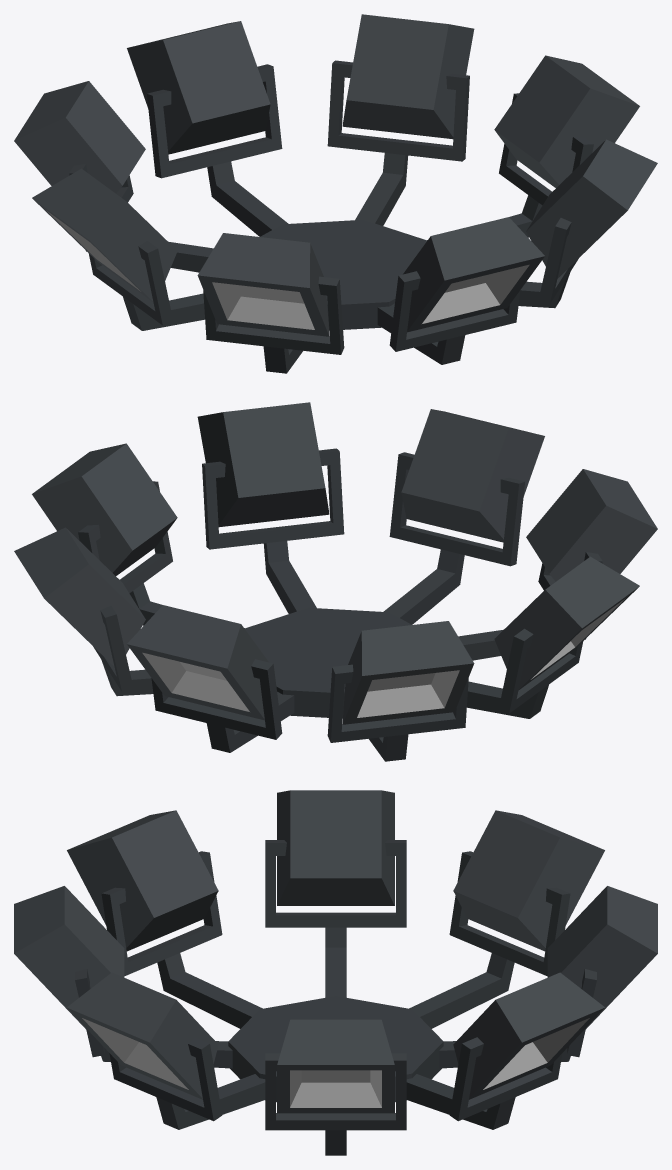
File: SM_Prop_Pole_Large_Lights_01.fbx
The picture shows the model from 3 angles, top to bottom: view 1: azimuth 30°, elevation 25°; view 2: azimuth 150°, elevation 25°; view 3: azimuth 270°, elevation 25°; orthographic projection.
Parts seen in each view (by area): view 1: SM_Prop_Pole_Large_Lights_01; view 2: SM_Prop_Pole_Large_Lights_01; view 3: SM_Prop_Pole_Large_Lights_01.
Boxes of the visible parts, x1=… form: SM_Prop_Pole_Large_Lights_01: x1=14, y1=14, x2=657, y2=373; SM_Prop_Pole_Large_Lights_01: x1=14, y1=402, x2=657, y2=761; SM_Prop_Pole_Large_Lights_01: x1=14, y1=790, x2=657, y2=1155.
Bounding box in the file's own units: 408 × 113 × 408.
